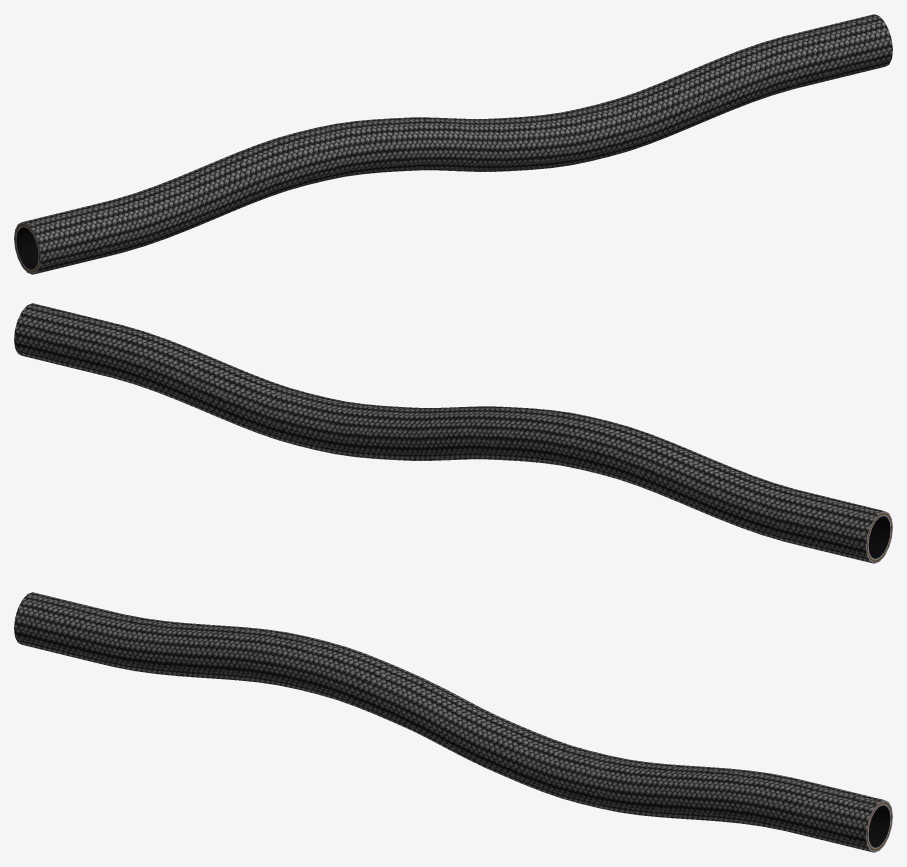
The picture shows the model from 3 angles, top to bottom: view 1: azimuth 30°, elevation 25°; view 2: azimuth 150°, elevation 25°; view 3: azimuth 330°, elevation 25°; orthographic projection.
Parts seen in each view (by area): view 1: Aramid_Braid-16; view 2: Aramid_Braid-16; view 3: Aramid_Braid-16.
Boxes of the visible parts, left/top/right/bottom form: Aramid_Braid-16: left=14, top=14, right=892, bottom=274; Aramid_Braid-16: left=14, top=303, right=892, bottom=563; Aramid_Braid-16: left=14, top=592, right=892, bottom=852.
Size of the model in its own units: 0.5 by 0.0528 by 0.0274.
2 materials, 2 textured.
